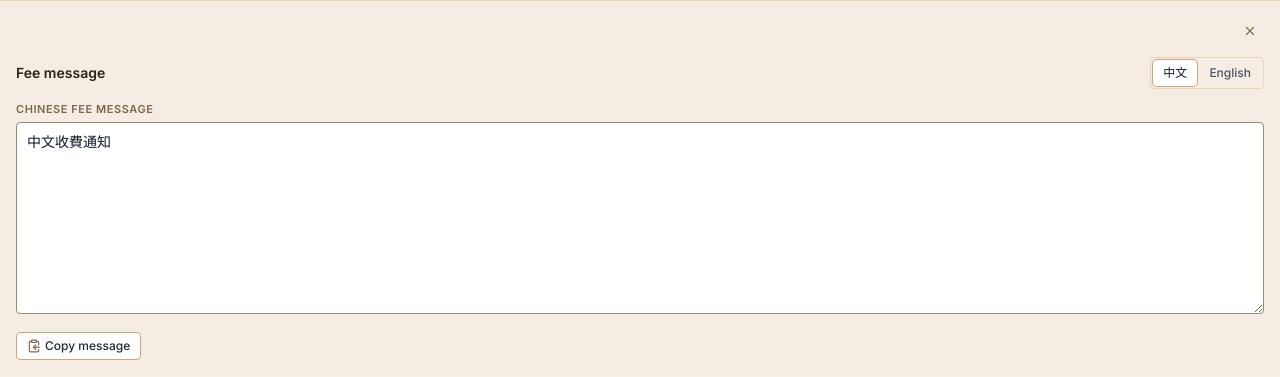
Scenario: reviewed card fee message › blocks a discarded draft that changes after expansion
The width and height of the screenshot is (1280, 377).
Expected: the text box labelled "Chinese fee message" is shown, [16,122,1264,314]
Click the button "Copy message" at (79, 346), box [16,332,141,360]
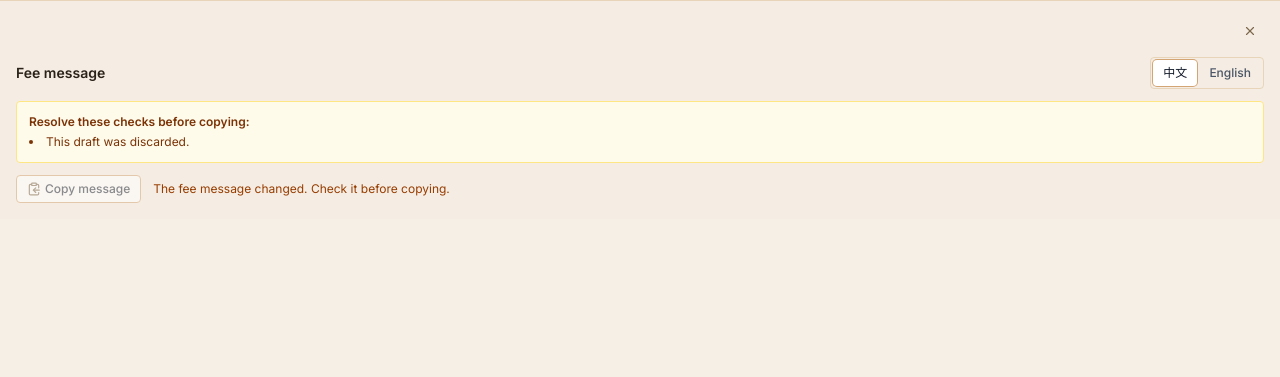
Expected: the text "The fee message changed. Check it before copying." is shown, [153,181,450,197]
Expected: the button "Copy message" is disabled, [16,175,141,203]
